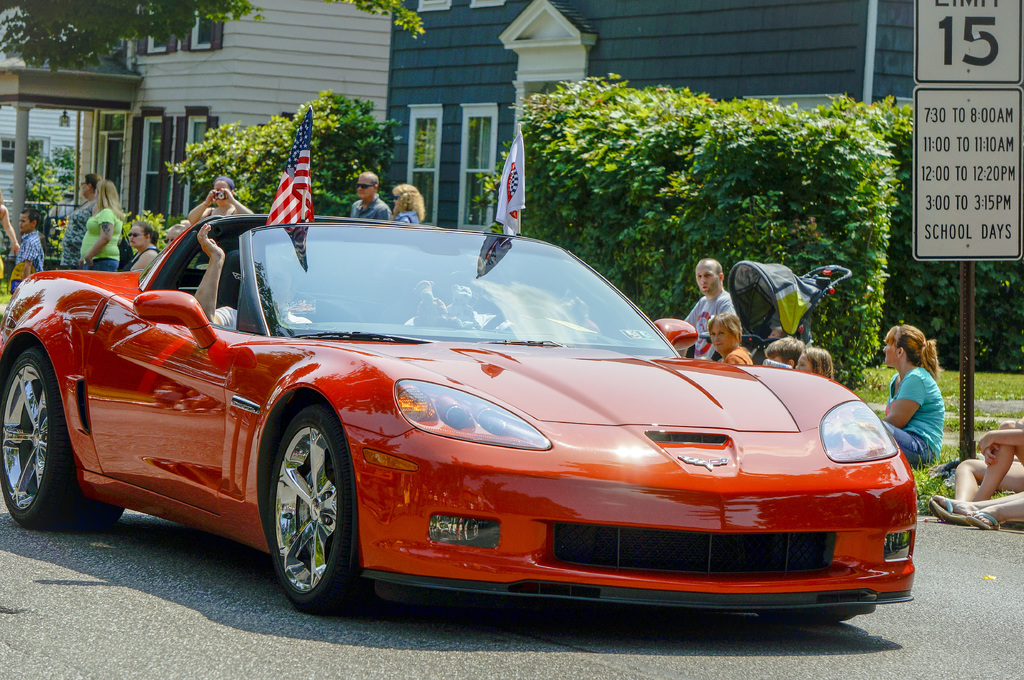Person: (0, 172, 1024, 531)
